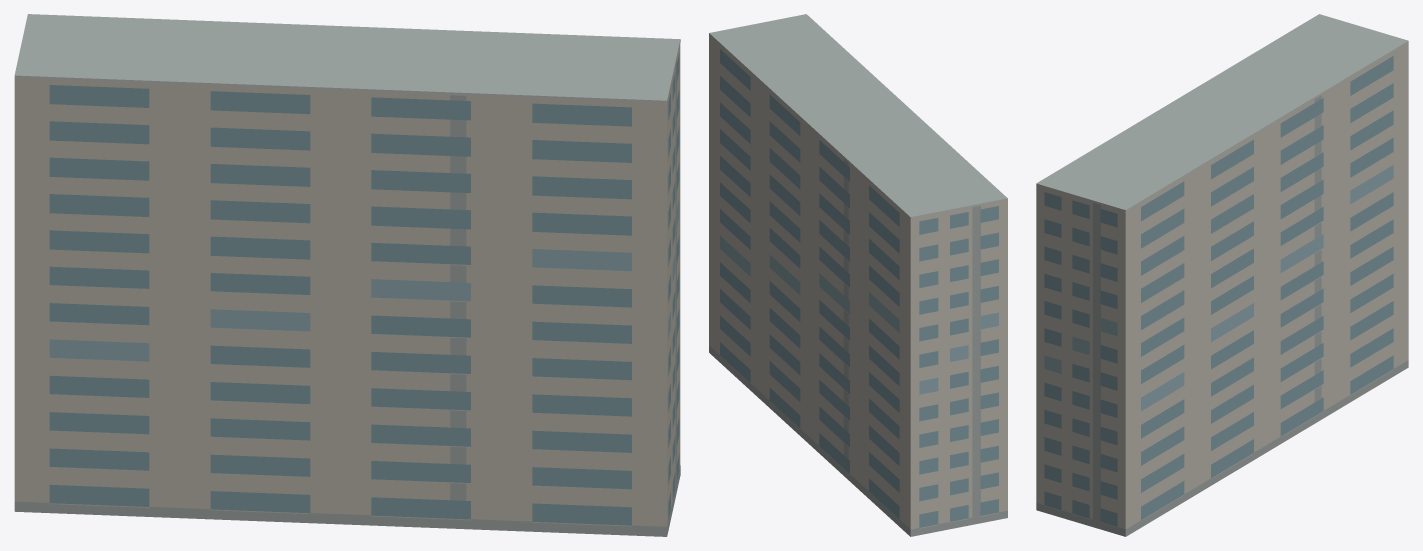
File: residential-88b29ef8-faa2-4486-aa82-3932a8171df4.glb
The picture shows the model from 3 angles, left to right: view 1: azimuth 30°, elevation 25°; view 2: azimuth 150°, elevation 25°; view 3: azimuth 270°, elevation 25°; orthographic projection. The views are drawn at different scales.
Visible parts, largest first — view 1: residential-88b29ef8-faa2-4486-aa82-3932a8171df4.tmp; view 2: residential-88b29ef8-faa2-4486-aa82-3932a8171df4.tmp; view 3: residential-88b29ef8-faa2-4486-aa82-3932a8171df4.tmp.
Part boxes in pixels (<box>): residential-88b29ef8-faa2-4486-aa82-3932a8171df4.tmp: <box>14,14,680,536</box>; residential-88b29ef8-faa2-4486-aa82-3932a8171df4.tmp: <box>709,14,1007,536</box>; residential-88b29ef8-faa2-4486-aa82-3932a8171df4.tmp: <box>1036,14,1408,536</box>.
Bounding box in the file's own units: 46.36 × 36 × 37.2.
